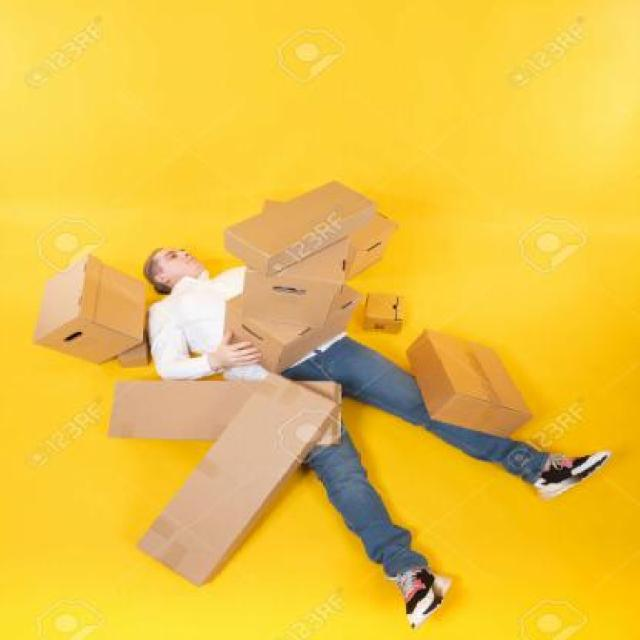box: (134, 379, 338, 604), (83, 374, 357, 460), (202, 175, 410, 287), (182, 253, 362, 376), (408, 311, 550, 446), (22, 237, 146, 372), (348, 288, 447, 334)
